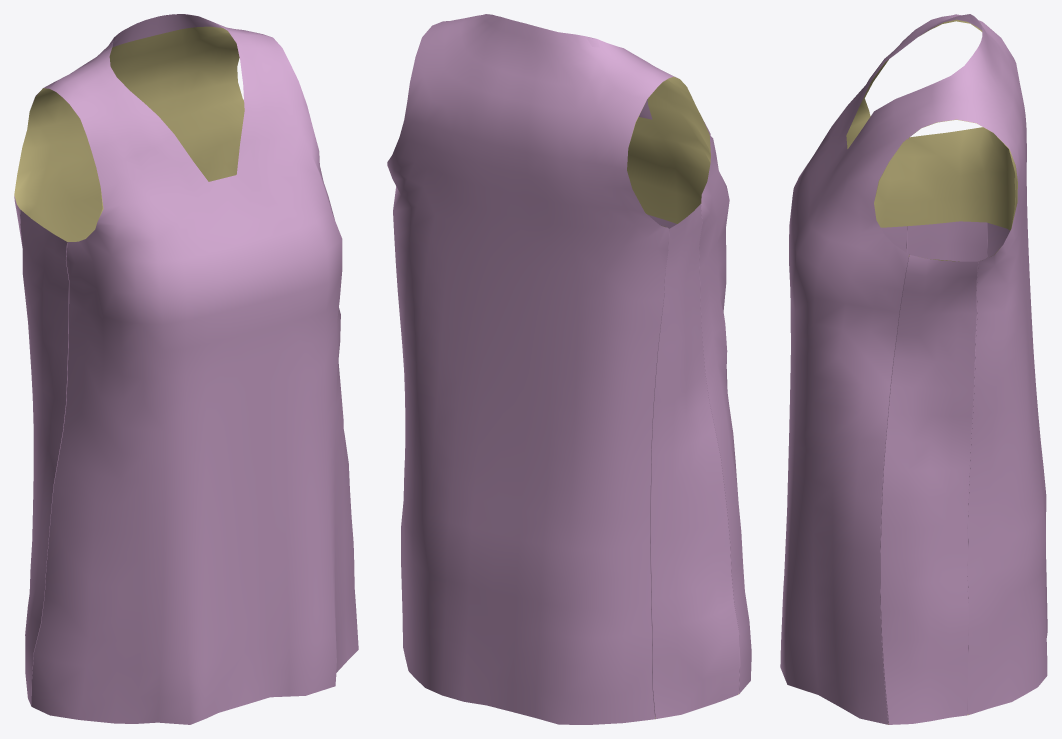
Rendered from 7B3VTA.glb.
3 renders of one model, left to right at view 1: azimuth 30°, elevation 25°; view 2: azimuth 150°, elevation 25°; view 3: azimuth 270°, elevation 25°, orthographic. The views are drawn at different scales.
Visible parts, largest first — view 1: 7B3VTA; view 2: 7B3VTA; view 3: 7B3VTA.
Part boxes in pixels (x1,y1,x2,y2): 7B3VTA: [14, 14, 358, 724]; 7B3VTA: [387, 14, 751, 724]; 7B3VTA: [780, 14, 1047, 724].
Bounding box in the file's own units: 0.5124 × 0.9692 × 0.377.
